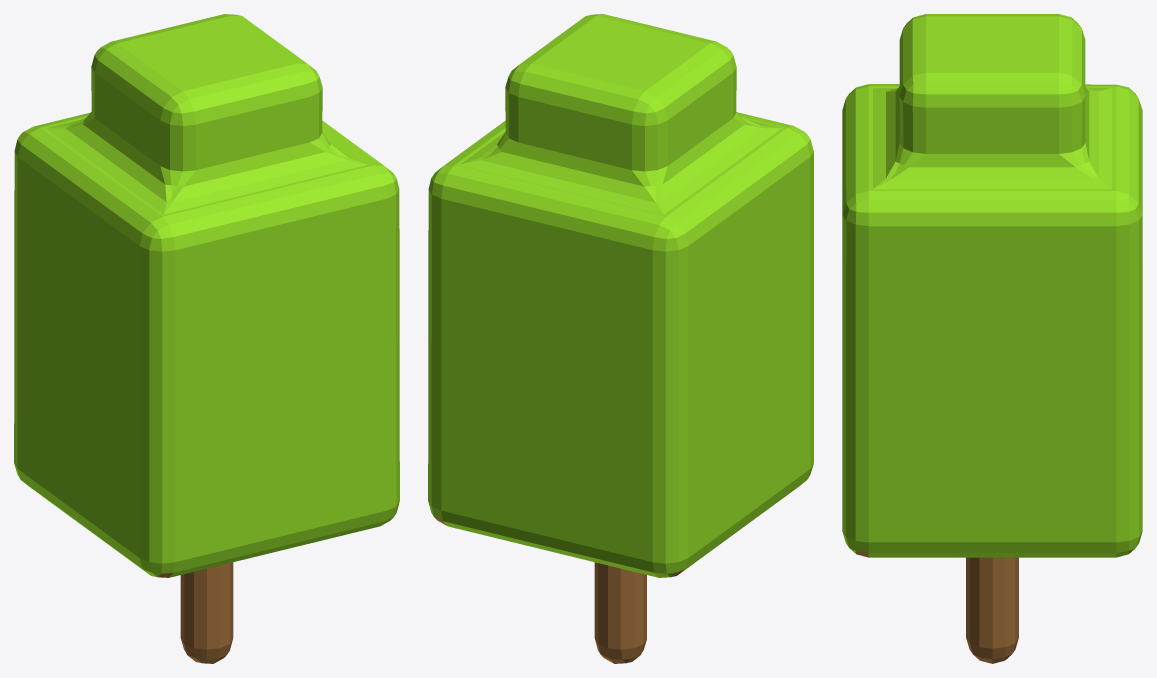
Rendered from ShortTree1.fbx.
3 renders of one model, left to right at view 1: azimuth 30°, elevation 25°; view 2: azimuth 150°, elevation 25°; view 3: azimuth 270°, elevation 25°, orthographic.
Visible parts, largest first — view 1: Cube.117; view 2: Cube.117; view 3: Cube.117.
Part boxes in pixels (x1,y1,x2,y2): Cube.117: (14,14,399,663); Cube.117: (428,14,813,663); Cube.117: (842,14,1142,663).
Bounding box in the file's own units: 0.5166 × 1.17 × 0.5166.
